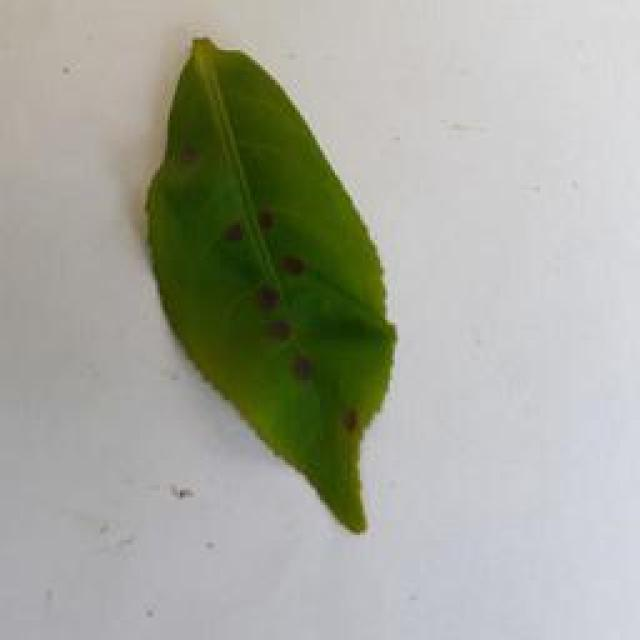Helopeltis: (137, 30, 395, 557)
